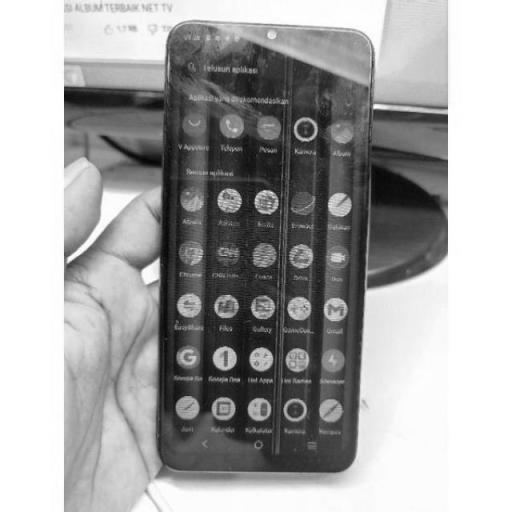phone: (155, 24, 383, 475)
